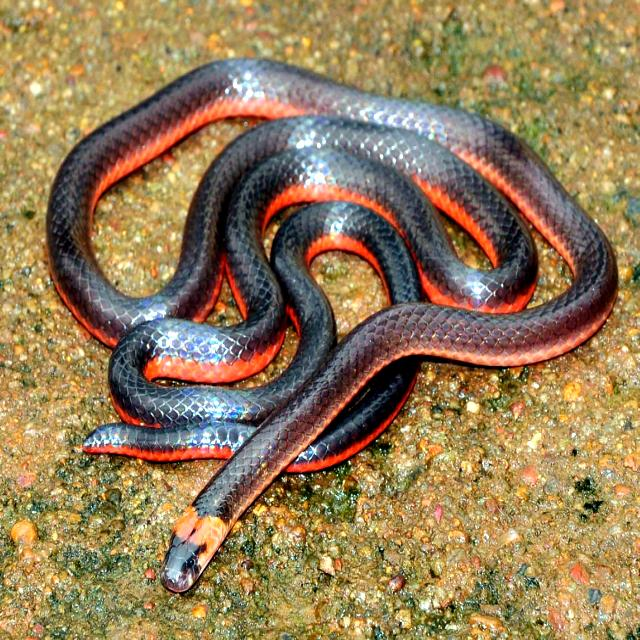Calliophis intestinalis: (48, 60, 616, 591)
snake: (48, 60, 616, 591)
